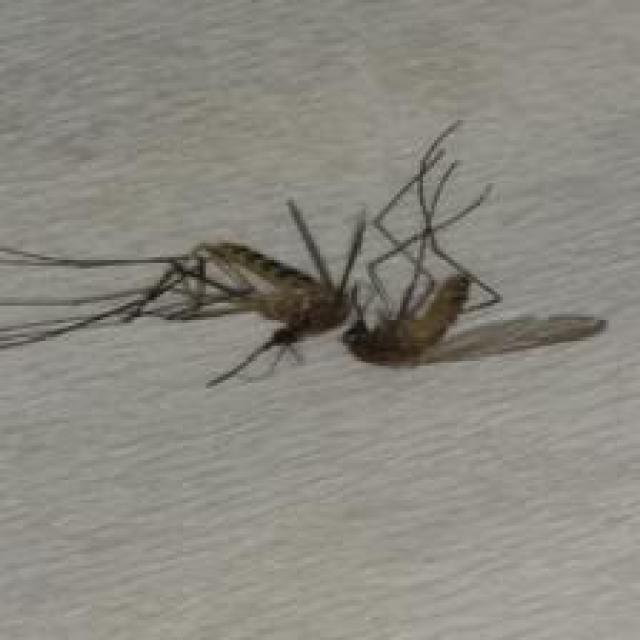Culex: (0, 117, 609, 392)
